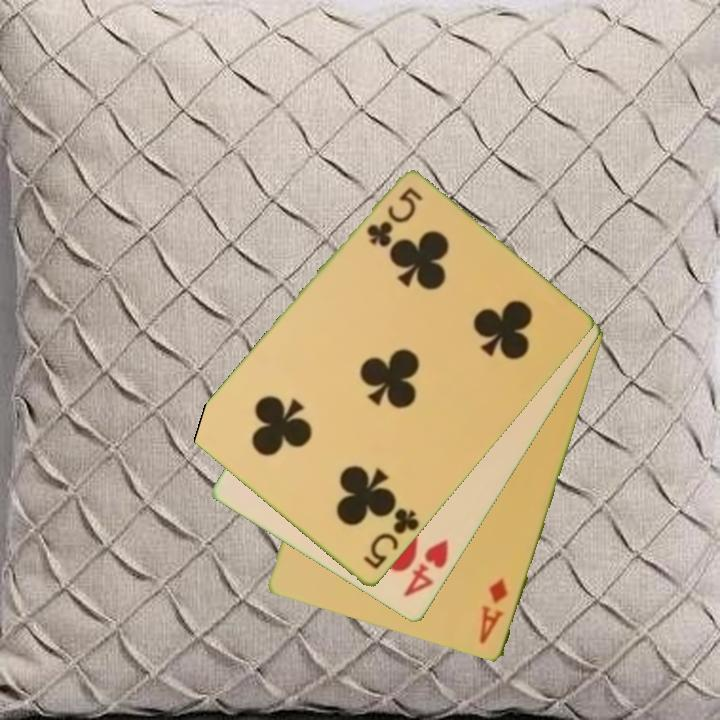4h: (400, 535, 452, 601)
5c: (359, 505, 422, 573), (363, 184, 426, 250)
Ad: (476, 575, 511, 647)
